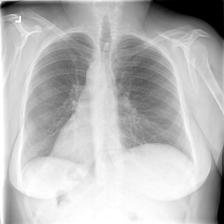normal: (17, 24, 204, 195)
